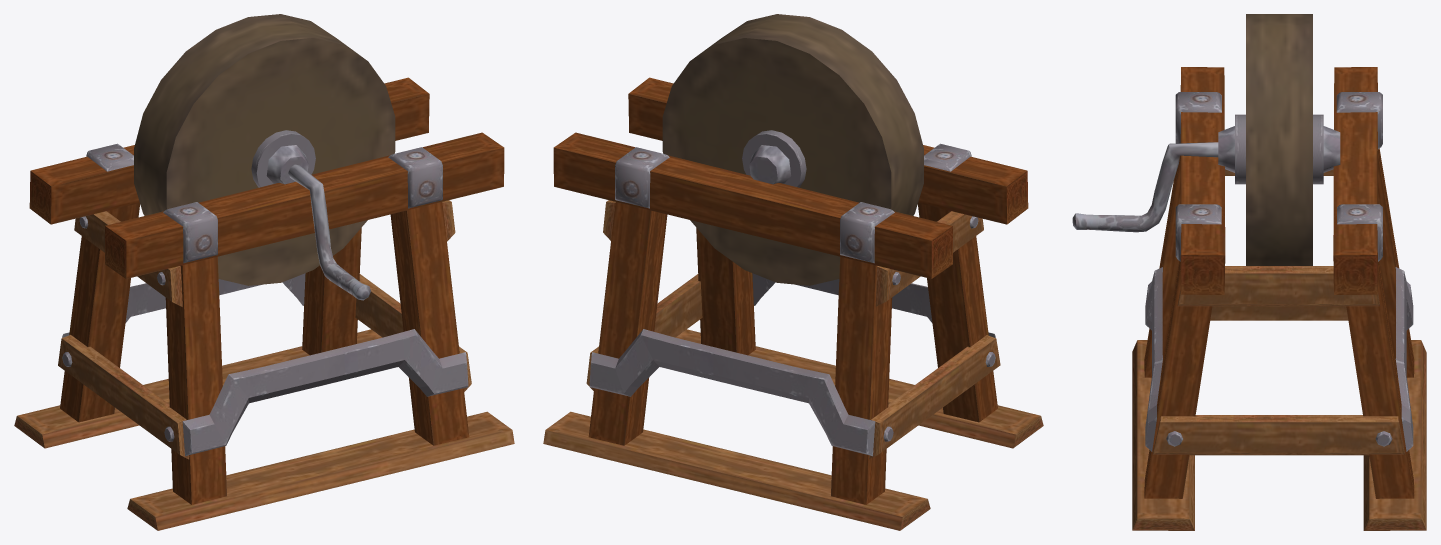
Rendered from Whetstone.gltf.
3 renders of one model, left to right at view 1: azimuth 30°, elevation 25°; view 2: azimuth 150°, elevation 25°; view 3: azimuth 270°, elevation 25°, orthographic. The views are drawn at different scales.
Visible parts, largest first — view 1: Whetstone; view 2: Whetstone; view 3: Whetstone.
Boxes of the visible parts, bbox=[...] form: Whetstone: bbox=[14, 14, 514, 530]; Whetstone: bbox=[543, 14, 1043, 530]; Whetstone: bbox=[1072, 14, 1426, 530].
Size of the model in its own units: 1.14 by 1.17 by 0.9018.
3 materials, 3 textured.
